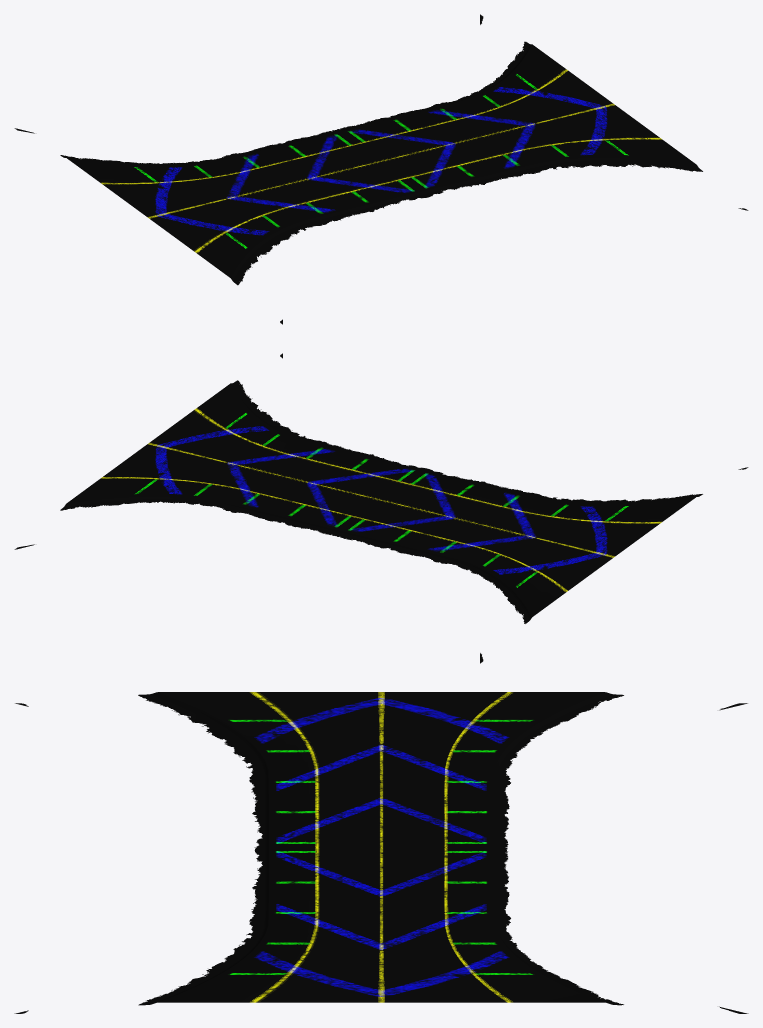
The picture shows the model from 3 angles, top to bottom: view 1: azimuth 30°, elevation 25°; view 2: azimuth 150°, elevation 25°; view 3: azimuth 270°, elevation 25°; orthographic projection. The views are drawn at different scales.
Parts seen in each view (by area): view 1: SM_Road_Connection_02_LOD0; view 2: SM_Road_Connection_02_LOD0; view 3: SM_Road_Connection_02_LOD0.
Part boxes in pixels (left/top/right/bottom): SM_Road_Connection_02_LOD0: left=14, top=14, right=748, bottom=324; SM_Road_Connection_02_LOD0: left=14, top=353, right=748, bottom=663; SM_Road_Connection_02_LOD0: left=14, top=692, right=748, bottom=1013.
Size of the model in its own units: 4000 by 4000 by 67.65.
Materials: 1 (1 with a texture image).
